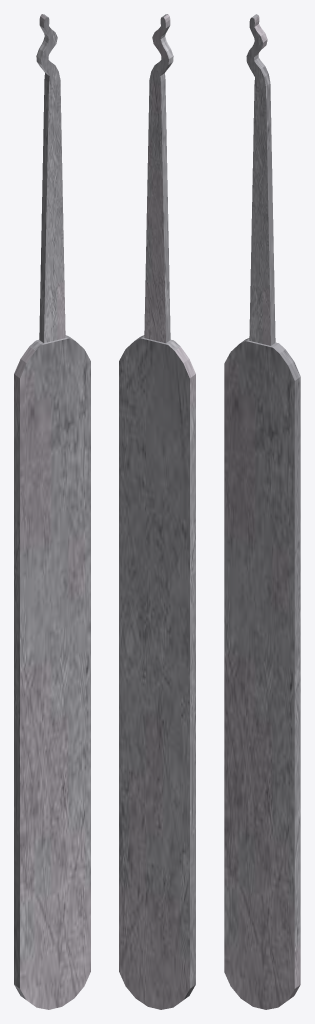
File: GANZUAFBX.fbx
3 renders of one model, left to right at view 1: azimuth 30°, elevation 25°; view 2: azimuth 150°, elevation 25°; view 3: azimuth 330°, elevation 25°, orthographic.
Parts seen in each view (by area): view 1: rdmobj00; view 2: rdmobj00; view 3: rdmobj00.
Part boxes in pixels (x1,y1,x2,y2): rdmobj00: (14, 14, 90, 1009); rdmobj00: (119, 14, 195, 1009); rdmobj00: (224, 14, 300, 1009).
Bounding box in the file's own units: 0.0118 × 0.1579 × 0.00175.
1 material, 1 textured.
